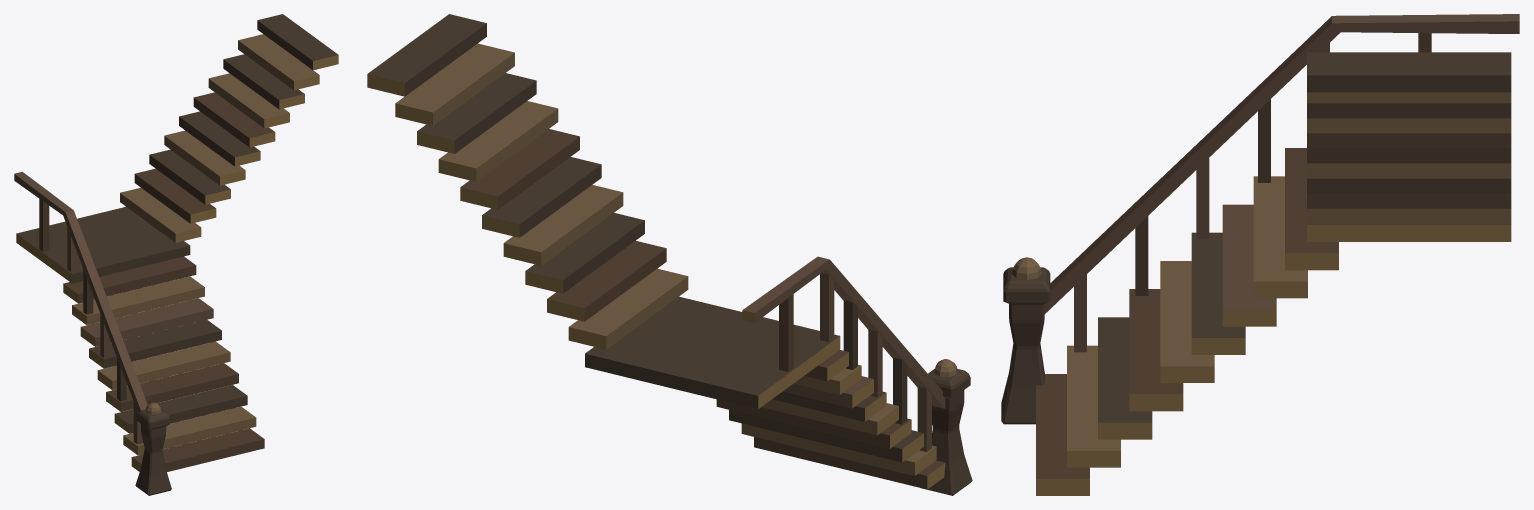
File: Stair_2B_4m.fbx
The picture shows the model from 3 angles, left to right: view 1: azimuth 30°, elevation 25°; view 2: azimuth 150°, elevation 25°; view 3: azimuth 270°, elevation 25°; orthographic projection. The views are drawn at different scales.
Parts seen in each view (by area): view 1: polySurface3037; view 2: polySurface3037; view 3: polySurface3037.
Boxes of the visible parts, x1,y1,x2,y2 form: polySurface3037: (14, 14, 338, 495); polySurface3037: (367, 14, 972, 495); polySurface3037: (1001, 14, 1519, 495).
Bounding box in the file's own units: 371 × 406 × 333.
